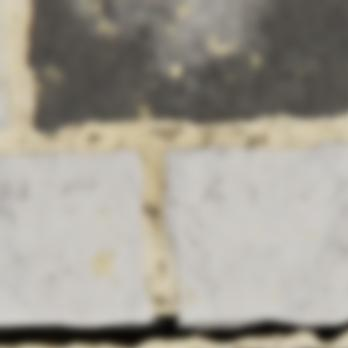brick: (27, 0, 347, 132), (164, 142, 347, 324), (0, 149, 153, 326), (0, 0, 10, 129)
crack: (0, 313, 347, 347)
